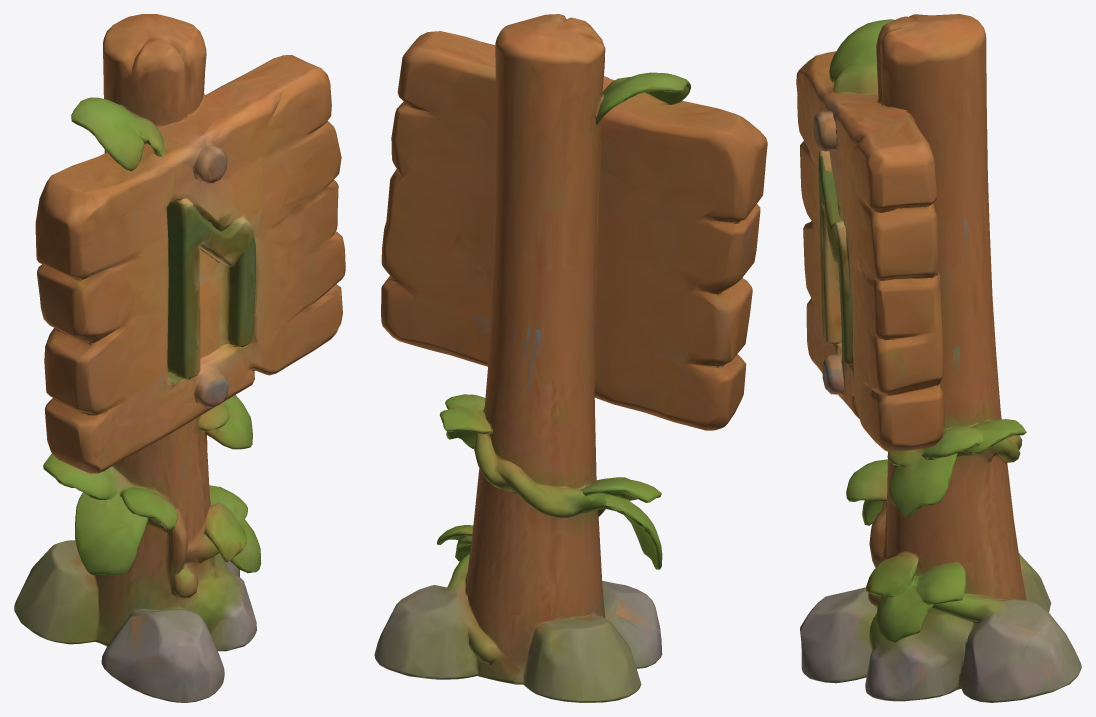
File: cartel_runa_verde.glb
3 renders of one model, left to right at view 1: azimuth 30°, elevation 25°; view 2: azimuth 150°, elevation 25°; view 3: azimuth 270°, elevation 25°, orthographic. The views are drawn at different scales.
Parts seen in each view (by area): view 1: cartel_runa_verde_malla; view 2: cartel_runa_verde_malla; view 3: cartel_runa_verde_malla.
Boxes of the visible parts, bbox=[...] form: cartel_runa_verde_malla: bbox=[14, 14, 345, 702]; cartel_runa_verde_malla: bbox=[374, 14, 767, 702]; cartel_runa_verde_malla: bbox=[796, 14, 1081, 702].
Size of the model in its own units: 0.159 by 0.2938 by 0.1158.
1 material, 1 textured.
